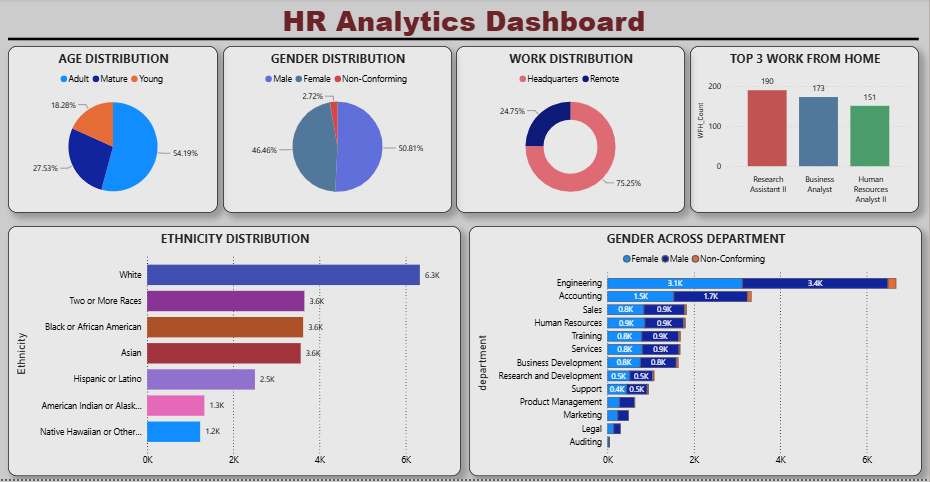

The page's visual inventory and layout, read from the dashboard file:
{"tool":"powerbi","page":{"name":"HR Analytics","canvas":[1450,750],"ordinal":0},"visuals":[{"type":"shape","box":[14,57.7,1420.4,12.5],"z":0},{"type":"textbox","box":[406.9,0,636.1,87.3],"z":1000},{"type":"pieChart","title":"AGE DISTRIBUTION","fields":{"Category":["HR_Record.Age_Group"],"Y":["CountNonNull(HR_Record.Emp_id)"]},"box":[14,74.8,327.4,260.4],"z":2000},{"type":"pieChart","title":"GENDER DISTRIBUTION","fields":{"Category":["HR_Record.gender"],"Y":["CountNonNull(HR_Record.Emp_id)"]},"box":[349.2,74.8,357,260.4],"z":3000},{"type":"clusteredBarChart","title":"ETHNICITY DISTRIBUTION","fields":{"Category":["HR_Record.Ethnicity"],"Y":["CountNonNull(HR_Record.Emp_id)"]},"box":[14,355.5,706.3,389.8],"z":4000},{"type":"barChart","title":"GENDER ACROSS DEPARTMENT","fields":{"Category":["HR_Record.department"],"Y":["CountNonNull(HR_Record.Emp_id)"],"Series":["HR_Record.gender"]},"box":[732.8,355.5,706.3,389.8],"z":5000},{"type":"columnChart","title":"TOP 3 WORK FROM HOME","fields":{"Category":["HR_Record.jobtitle"],"Y":["HR_Record.WFH_Count"]},"box":[1077.4,74.8,357,260.4],"z":6000},{"type":"donutChart","title":"WORK DISTRIBUTION","fields":{"Y":["CountNonNull(HR_Record.Emp_id)"],"Category":["HR_Record.location"]},"box":[712.5,74.8,357,260.4],"z":7000}]}

Visuals, with their boxes in screenshot pixels (x1, y1, x2, y2), scaled from the page's 1450x750 canvas onto the 930x482 screenshot:
shape: [left=9, top=37, right=920, bottom=45]
textbox: [left=261, top=0, right=669, bottom=56]
"AGE DISTRIBUTION" pieChart: [left=9, top=48, right=219, bottom=215]
"GENDER DISTRIBUTION" pieChart: [left=224, top=48, right=453, bottom=215]
"ETHNICITY DISTRIBUTION" clusteredBarChart: [left=9, top=228, right=462, bottom=479]
"GENDER ACROSS DEPARTMENT" barChart: [left=470, top=228, right=923, bottom=479]
"TOP 3 WORK FROM HOME" columnChart: [left=691, top=48, right=920, bottom=215]
"WORK DISTRIBUTION" donutChart: [left=457, top=48, right=686, bottom=215]
